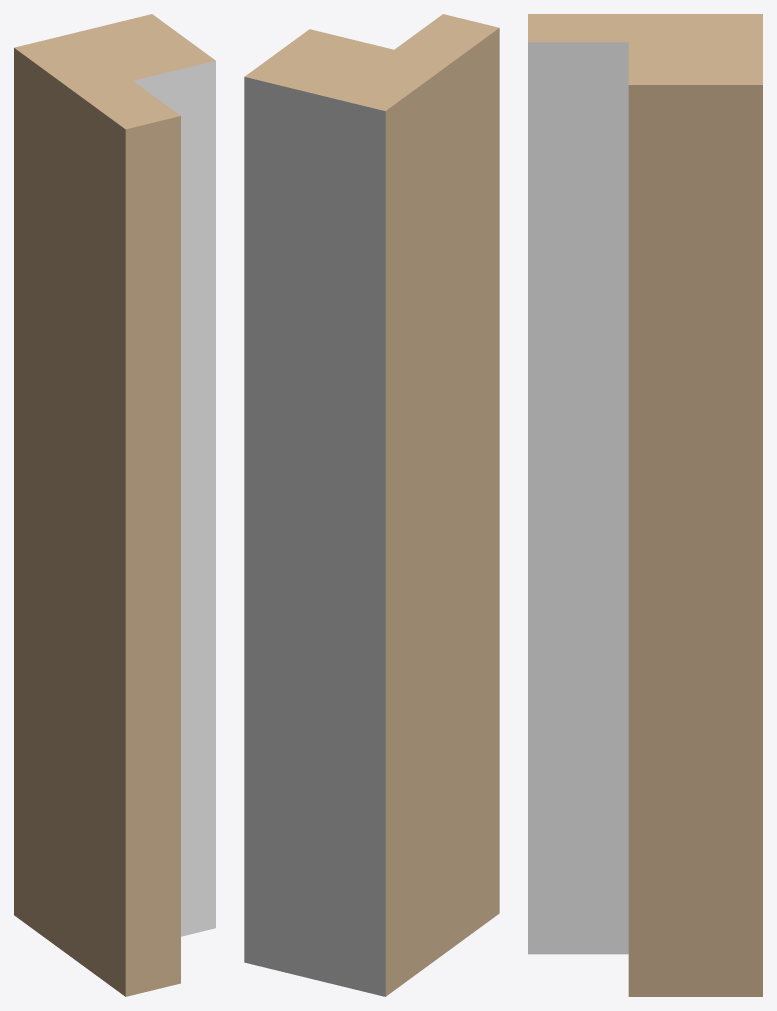
The model's file is house-wall-corner-half.glb.
3 views of the same model, side by side, from view 1: azimuth 30°, elevation 25°; view 2: azimuth 150°, elevation 25°; view 3: azimuth 270°, elevation 25° (orthographic). The views are drawn at different scales.
Visible parts, largest first — view 1: house-wall-corner-half; view 2: house-wall-corner-half; view 3: house-wall-corner-half.
Boxes of the visible parts, box(x1,y1,x2,y2) form: house-wall-corner-half: box(14, 14, 215, 996); house-wall-corner-half: box(244, 14, 499, 996); house-wall-corner-half: box(528, 14, 762, 996).
Bounding box in the file's own units: 0.5 × 3 × 0.7.
Materials: 1 (1 with a texture image).
